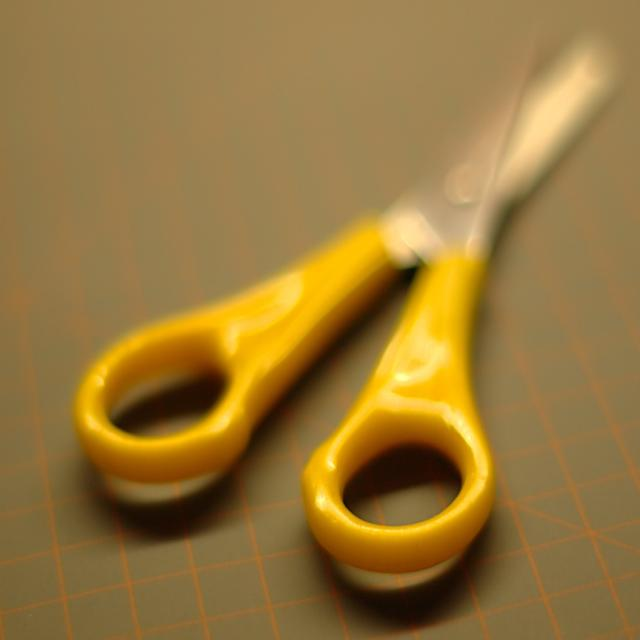scissors: (72, 28, 622, 592)
